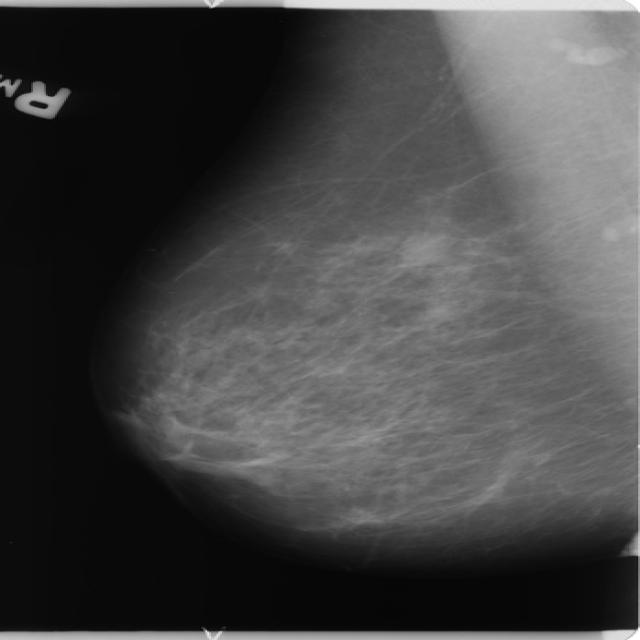tumour: (396, 230, 451, 265)
